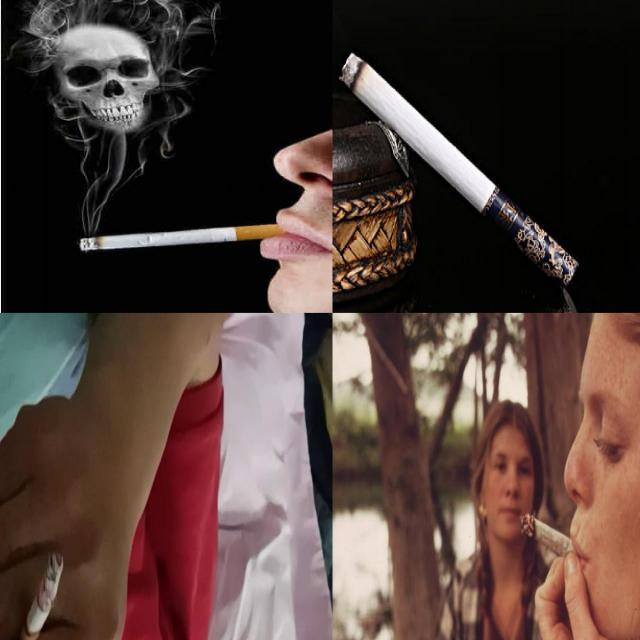cigarette: (338, 48, 578, 286), (80, 224, 285, 252), (16, 552, 66, 639), (522, 514, 582, 562)
